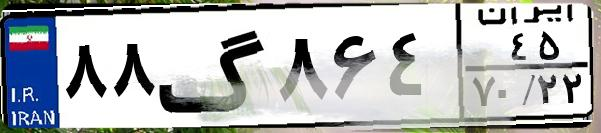0: (495, 70, 520, 125)
2: (560, 70, 590, 125), (535, 70, 560, 125)
4: (385, 28, 445, 110), (508, 27, 537, 80)
5: (537, 27, 568, 80)
6: (330, 28, 385, 110)
7: (470, 70, 495, 125)
8: (270, 28, 330, 110), (57, 26, 110, 100), (110, 28, 156, 98)
گ: (156, 12, 270, 120)
